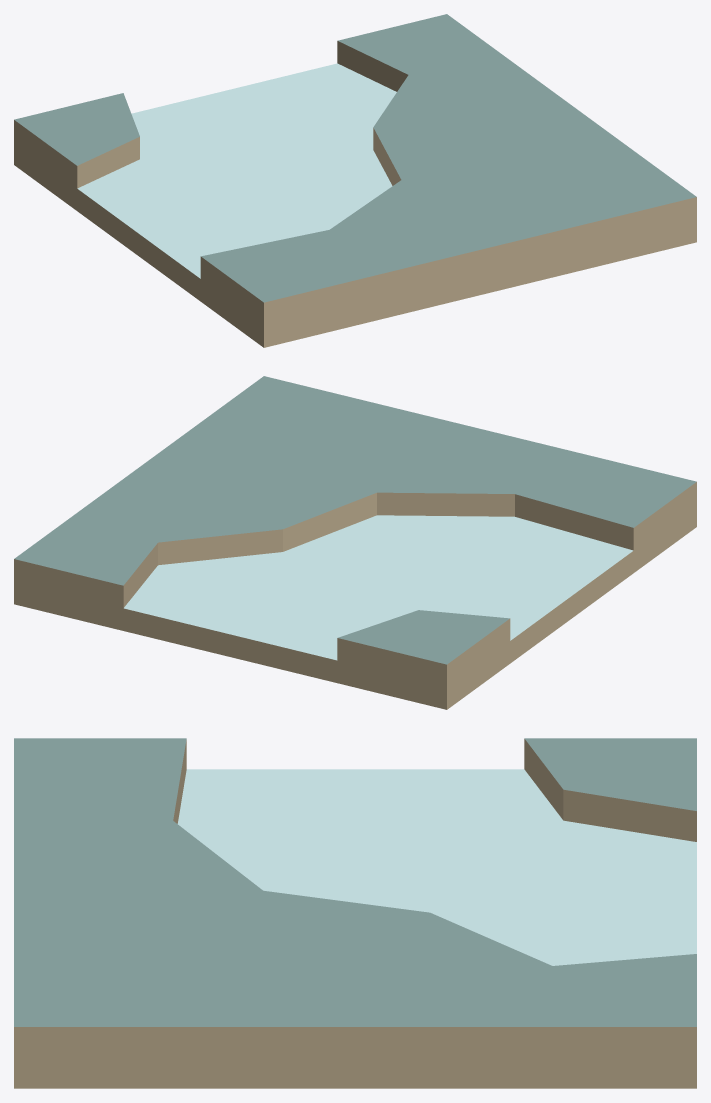
File: naturePack_091.gltf
3 renders of one model, top to bottom at view 1: azimuth 30°, elevation 25°; view 2: azimuth 150°, elevation 25°; view 3: azimuth 270°, elevation 25°, orthographic. The views are drawn at different scales.
Parts seen in each view (by area): view 1: Mesh1 Plate_River_Corner_Dirt Model; view 2: Mesh1 Plate_River_Corner_Dirt Model; view 3: Mesh1 Plate_River_Corner_Dirt Model.
Boxes of the visible parts, left/top/right/bottom form: Mesh1 Plate_River_Corner_Dirt Model: left=14, top=14, right=696, bottom=347; Mesh1 Plate_River_Corner_Dirt Model: left=14, top=376, right=696, bottom=709; Mesh1 Plate_River_Corner_Dirt Model: left=14, top=738, right=696, bottom=1088.
Bounding box in the file's own units: 3 × 0.3 × 3.
